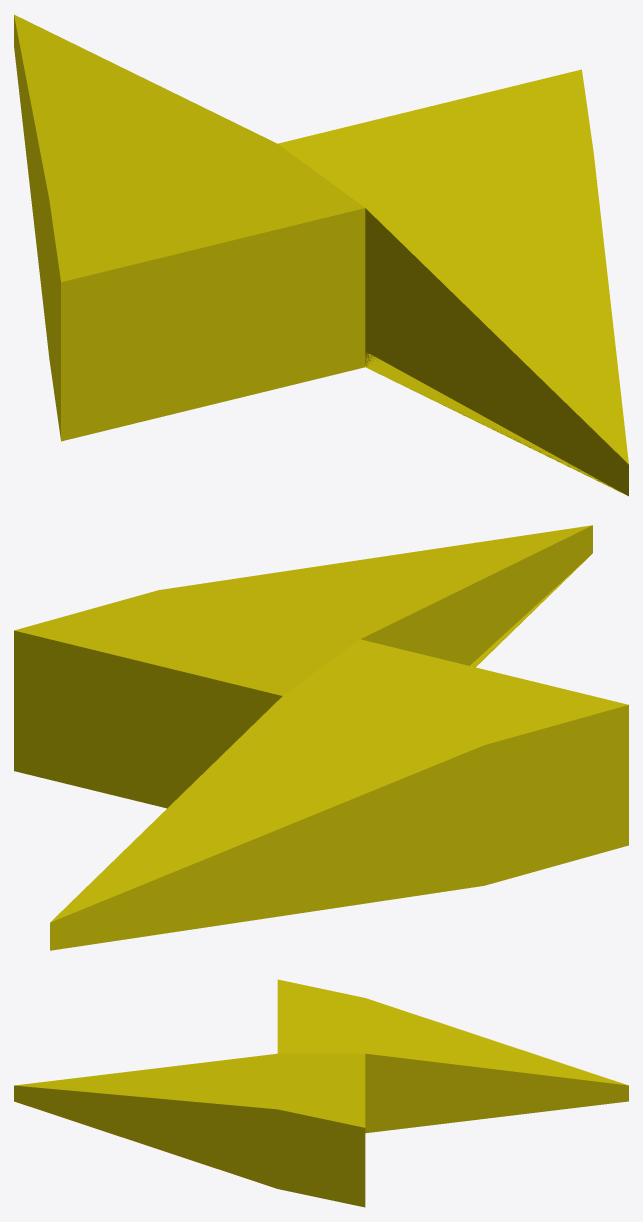
The model's file is lightning.fbx.
3 views of the same model, one above another, from view 1: azimuth 30°, elevation 25°; view 2: azimuth 150°, elevation 25°; view 3: azimuth 270°, elevation 25° (orthographic). The views are drawn at different scales.
Parts seen in each view (by area): view 1: Cube; view 2: Cube; view 3: Cube.
Boxes of the visible parts, x1,y1,x2,y2 form: Cube: (14, 14, 628, 496); Cube: (14, 525, 628, 950); Cube: (14, 979, 628, 1207).
Size of the model in its own units: 200 by 50 by 350.
